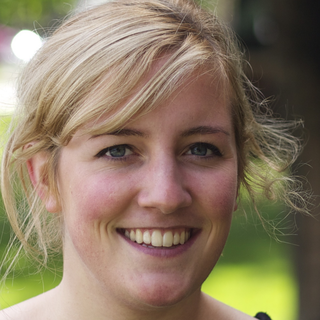eye: (173, 138, 226, 164), (92, 141, 143, 164)
